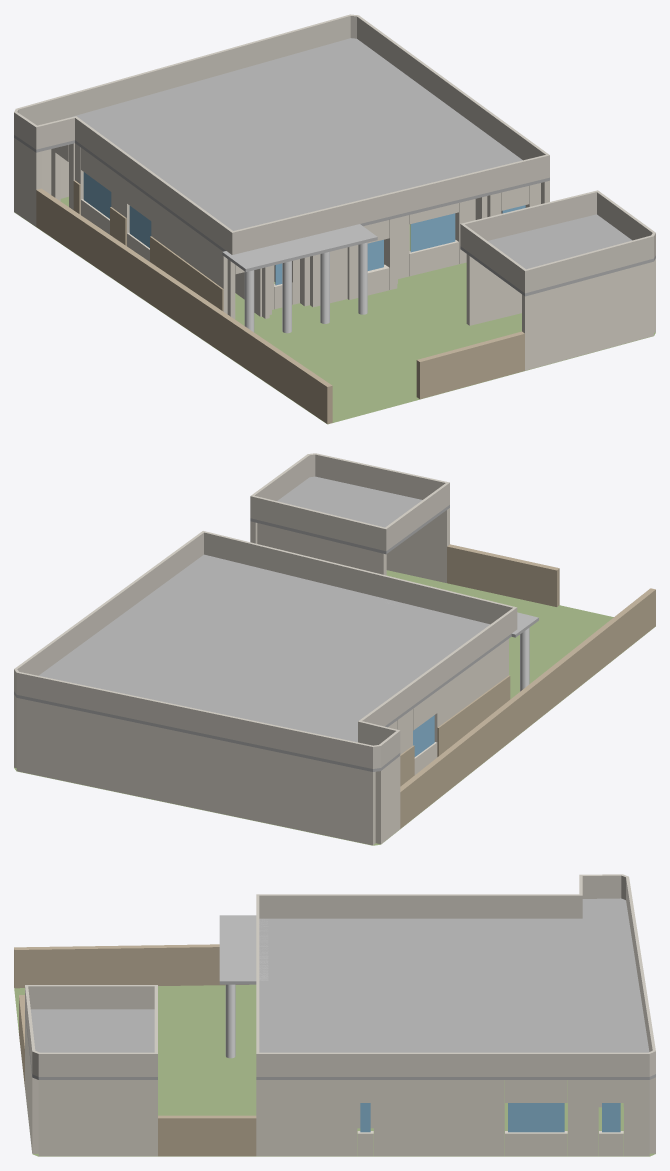
Rendered from Dilbagh_3D.dae.
3 views of the same model, one above another, from view 1: azimuth 30°, elevation 25°; view 2: azimuth 150°, elevation 25°; view 3: azimuth 270°, elevation 25° (orthographic). The views are drawn at different scales.
Parts seen in each view (by area): view 1: Roof slab, Parapet, Walls, Plot, Boundary wall, Window sills & lintels, Glass, Porch, Columns; view 2: Roof slab, Walls, Parapet, Boundary wall, Plot, Window sills & lintels, Glass, Columns; view 3: Roof slab, Walls, Parapet, Plot, Boundary wall, Window sills & lintels, Porch, Glass, Columns.
Boxes of the visible parts, x1,y1,x2,y2 form: Roof slab: (14,38,655,296); Parapet: (14,14,655,293); Walls: (14,138,655,370); Plot: (14,196,655,424); Boundary wall: (36,180,524,423); Window sills & lintels: (81,148,529,309); Glass: (83,172,525,285); Porch: (222,224,377,271); Columns: (244,242,367,333); Roof slab: (14,476,511,771); Walls: (14,508,508,845); Parapet: (14,453,517,768); Boundary wall: (400,544,655,828); Plot: (14,570,655,845); Window sills & lintels: (388,691,437,774); Glass: (413,715,434,756); Columns: (520,627,529,691); Roof slab: (25,898,655,1079); Walls: (25,1013,655,1156); Parapet: (25,874,655,1076); Plot: (14,984,655,1156); Boundary wall: (14,944,256,1156); Window sills & lintels: (357,1080,623,1156); Porch: (219,915,268,984); Glass: (360,1103,620,1132); Columns: (225,984,235,1058).
Size of the model in its own units: 606 by 914 by 162.
